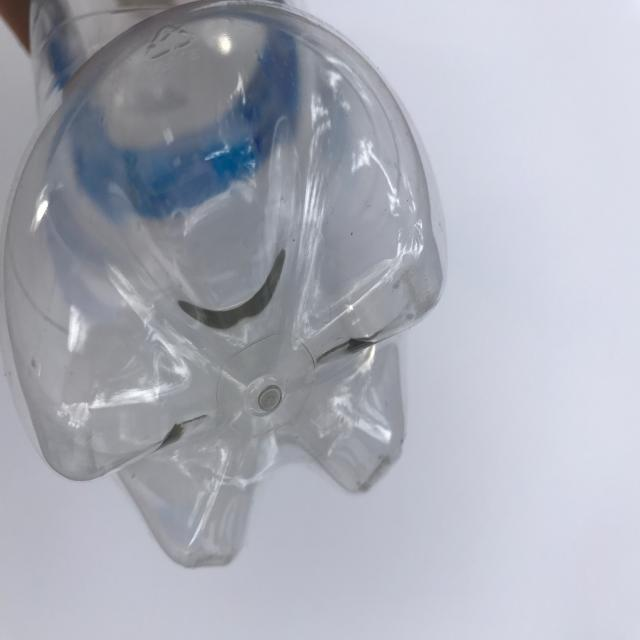plastic: (2, 2, 452, 588)
